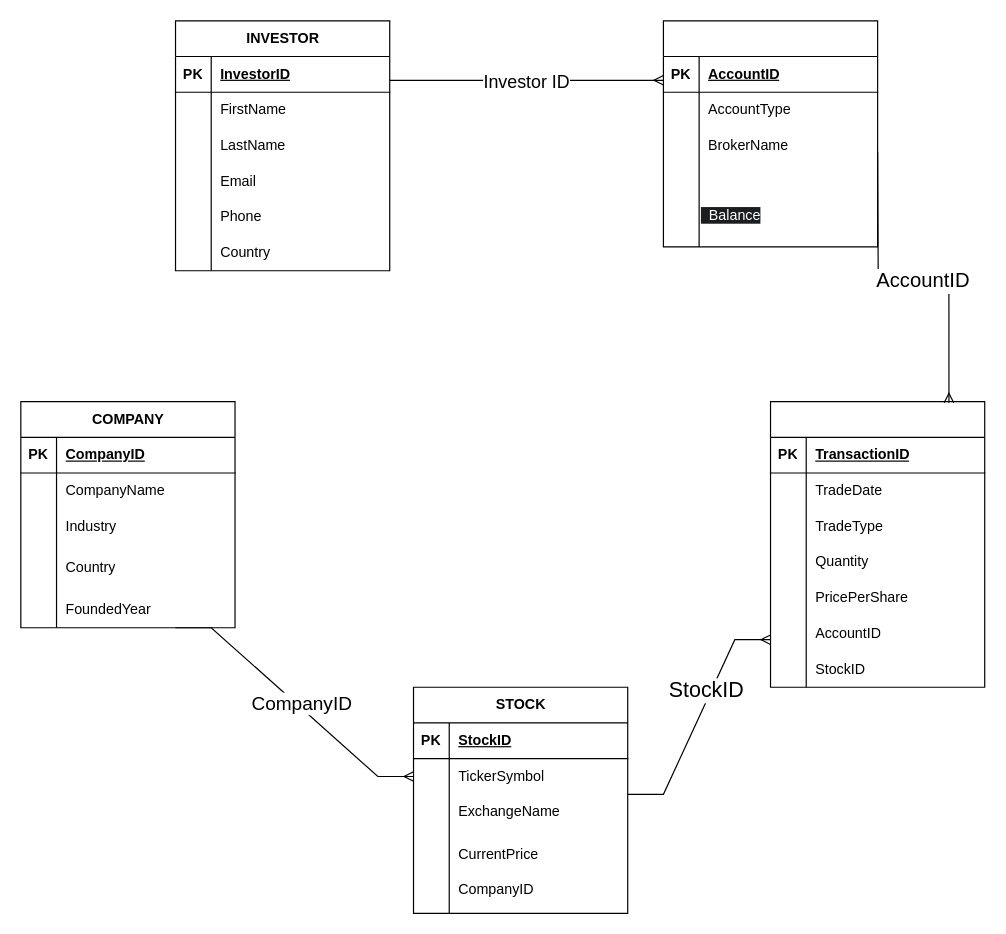
This 1006x934 diagram has some shape labels left out. The shapes that lost their labels are listed below. From the top down, each one's box as (x1, y1, x2, y2) in pixels, then its label:
(662, 20, 878, 247): BROKERAGE_ACCOUNT
(769, 400, 985, 687): TRADE_TRANSACTION
